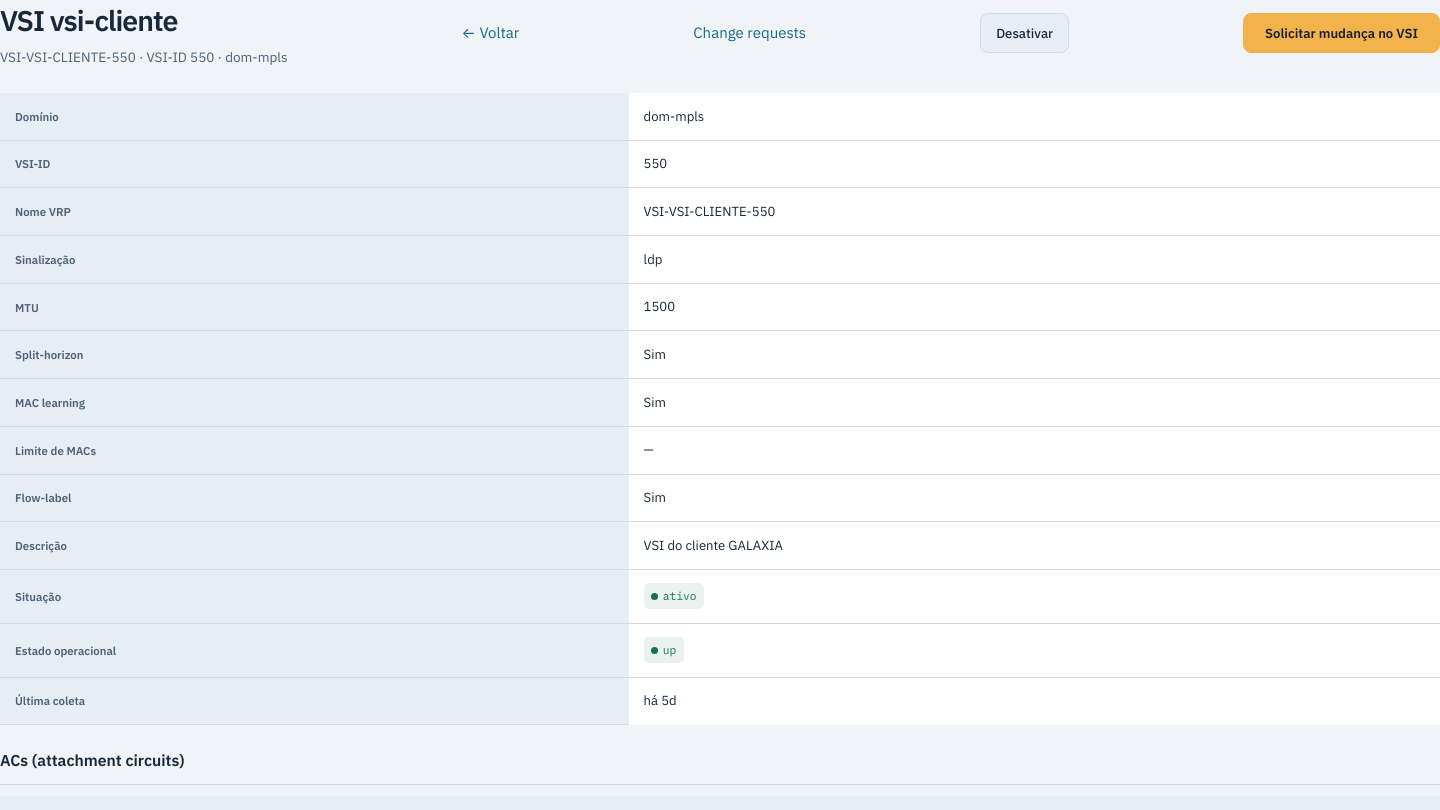
MplsVsiDetail › fecha o diálogo e mostra o erro da página quando o PATCH de status falha
Step 1. Click the button "Desativar" → (1025, 33), box [980, 13, 1069, 53]
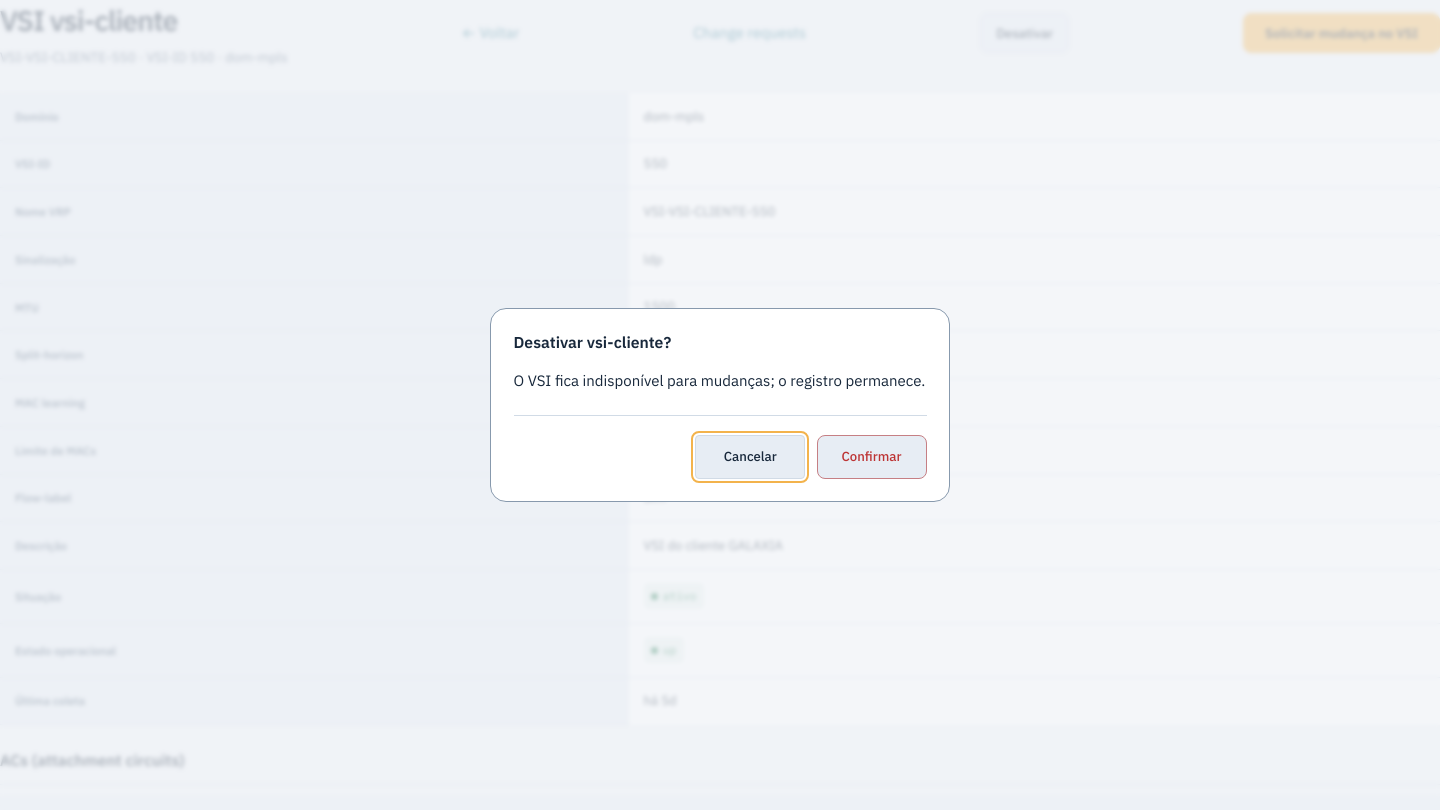
Step 2. Click the button "Confirmar" → (872, 457), box [816, 435, 926, 479]
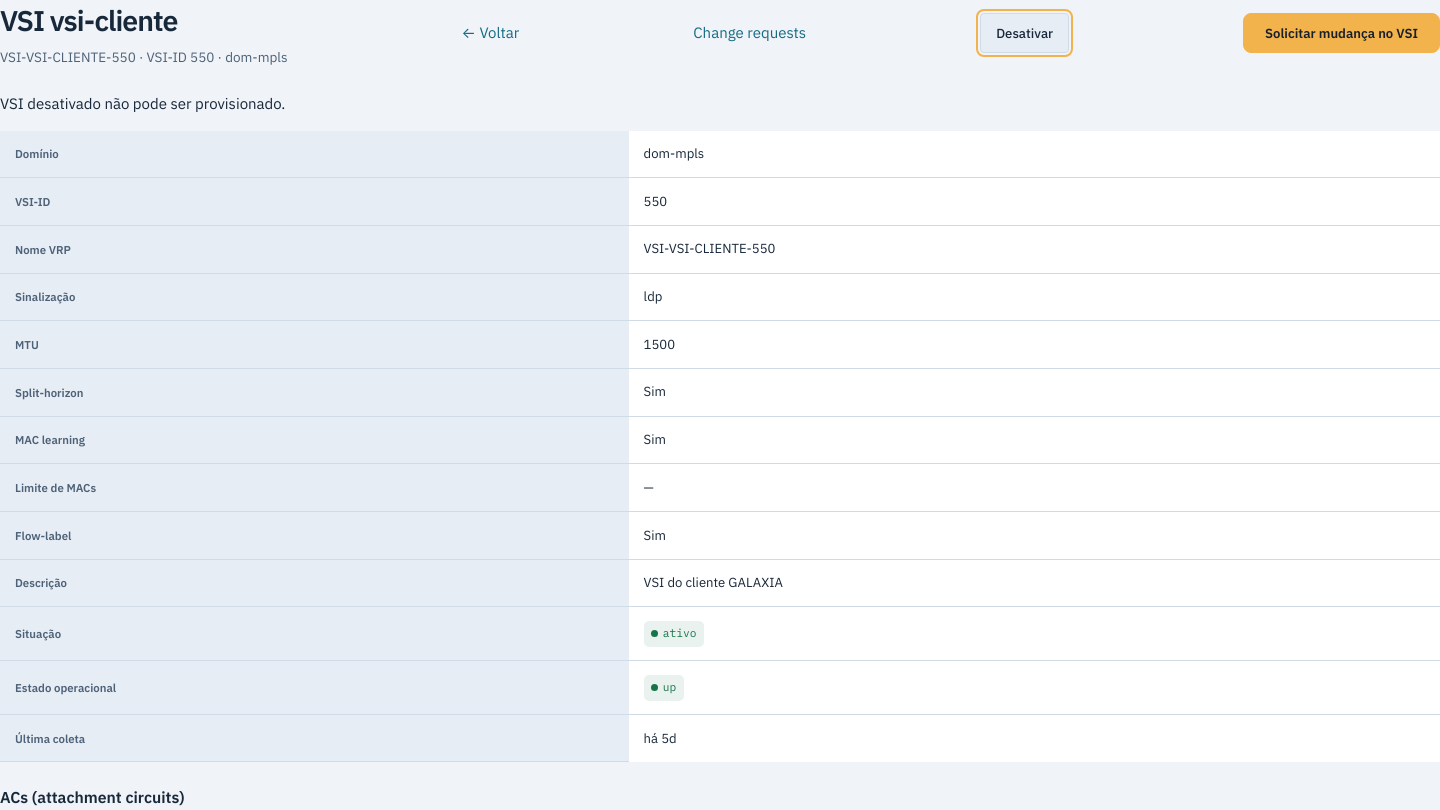
Check: the message reads "VSI desativado não pode ser provisionado.", box [0, 94, 285, 113]
Check: the dialog is gone
